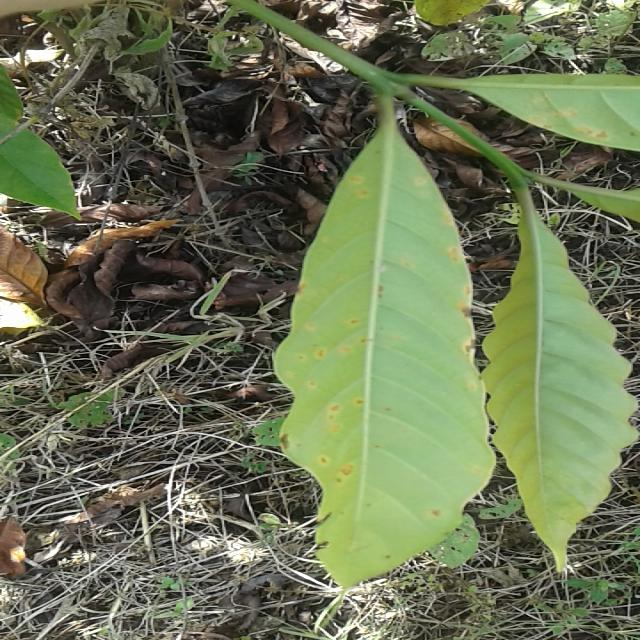Enfermedad-Roya: (274, 135, 496, 592)
